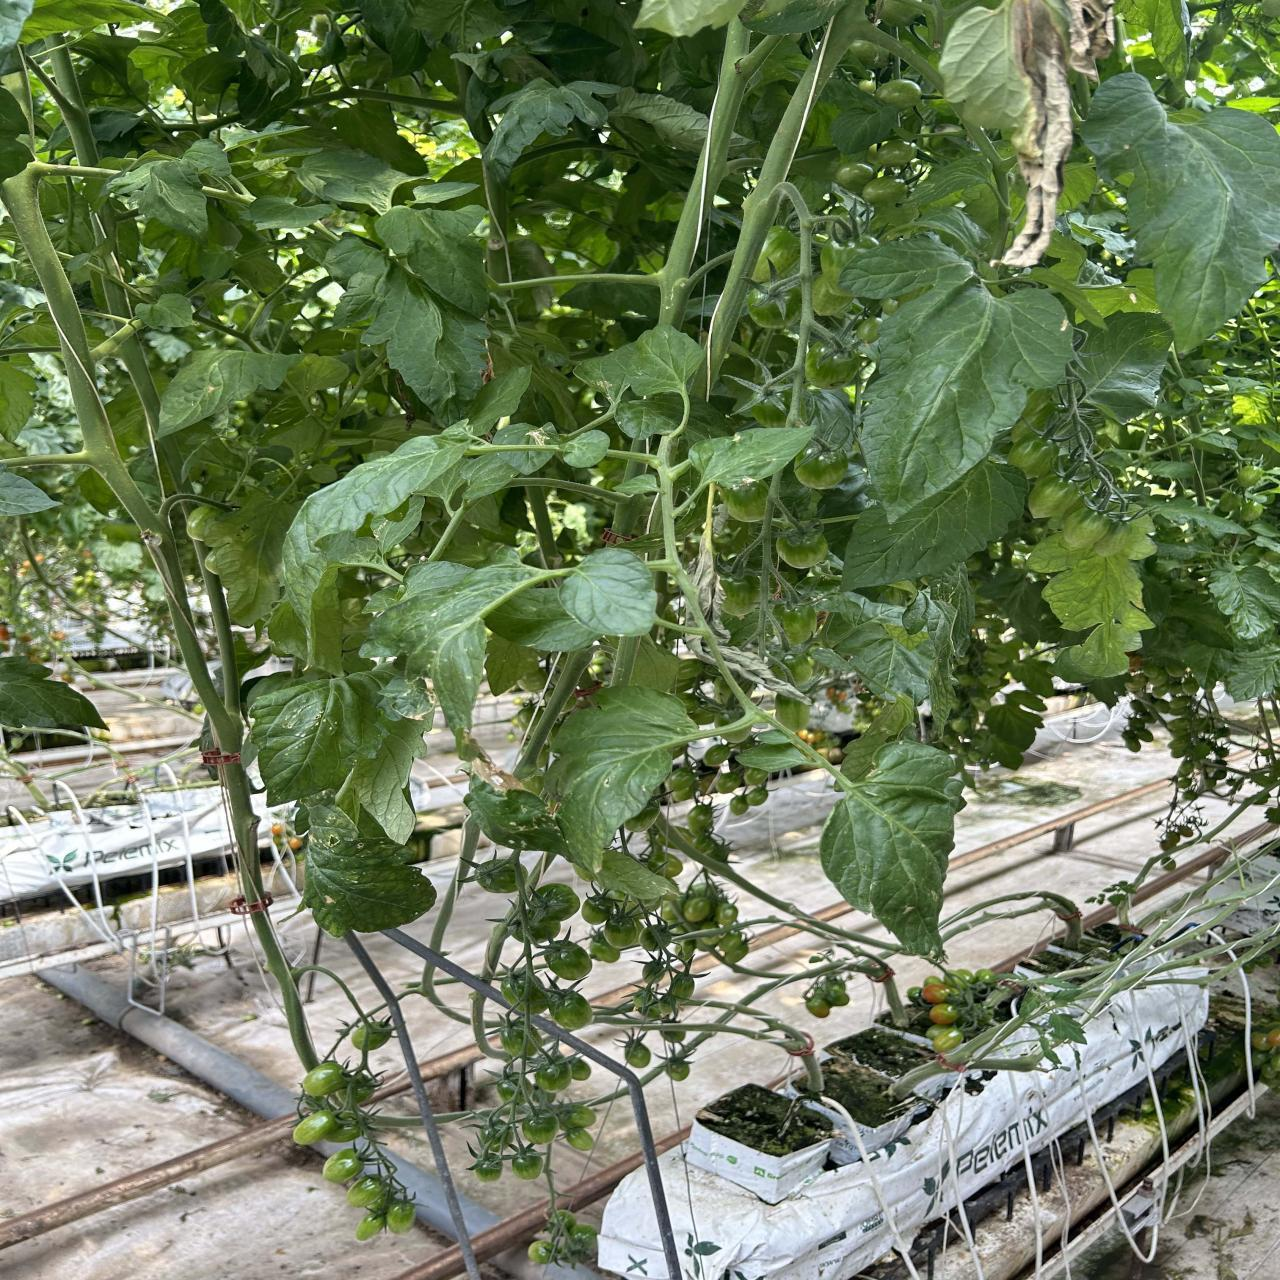Hoja: (840, 236, 1073, 520), (282, 421, 551, 625), (1081, 75, 1280, 349), (4, 162, 148, 510), (360, 560, 544, 730), (819, 741, 964, 958), (250, 676, 428, 843), (542, 687, 697, 869), (844, 459, 1027, 588), (158, 349, 300, 437), (375, 207, 488, 316), (574, 326, 702, 399), (559, 547, 656, 636), (104, 158, 207, 240), (689, 427, 811, 486)
Pedunculo: (147, 539, 315, 1062), (706, 40, 839, 397), (4, 162, 139, 499), (660, 16, 775, 327)
Tomate: (1094, 517, 1155, 559), (499, 969, 552, 1014), (1028, 475, 1081, 518), (1061, 508, 1114, 549), (543, 939, 592, 980), (498, 1016, 542, 1058), (292, 1111, 338, 1145), (301, 1061, 343, 1097), (552, 990, 591, 1029), (322, 1149, 363, 1184), (876, 80, 921, 107), (604, 917, 642, 948), (347, 1176, 383, 1208), (560, 1102, 595, 1133), (520, 1117, 560, 1144), (386, 1201, 415, 1234), (470, 1152, 503, 1182), (927, 1026, 964, 1051), (512, 1150, 544, 1179), (625, 1037, 651, 1069), (581, 896, 608, 925), (355, 1214, 383, 1241), (921, 978, 949, 1005), (928, 1003, 959, 1026), (567, 1130, 594, 1151), (667, 1060, 690, 1082)
